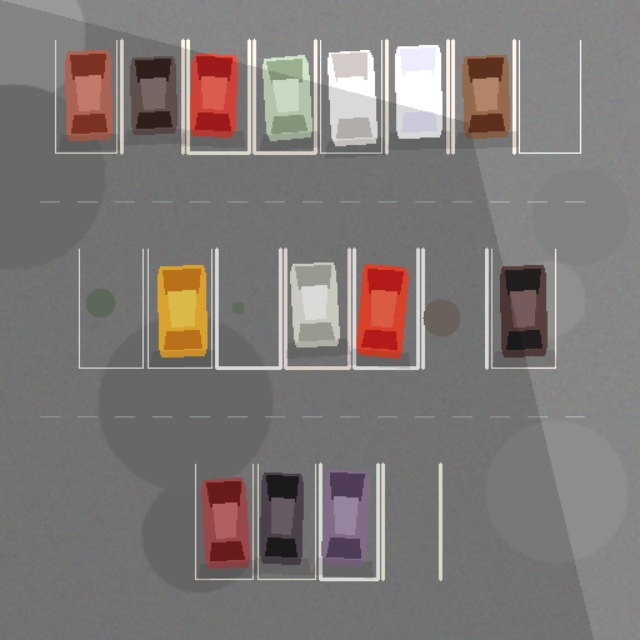space-empty: (79, 249, 143, 367), (216, 249, 280, 367), (423, 249, 486, 367), (519, 40, 580, 153), (382, 464, 440, 579)
space-occupied: (147, 249, 211, 367), (285, 249, 349, 367), (491, 249, 555, 367), (354, 249, 417, 367), (121, 40, 183, 153), (187, 40, 249, 153), (55, 40, 116, 153), (254, 40, 315, 153), (320, 40, 381, 153), (386, 40, 447, 153), (453, 40, 514, 153), (320, 464, 378, 579), (195, 464, 252, 579), (258, 464, 315, 579)
